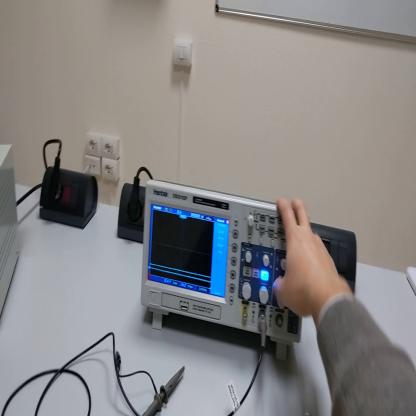hand: (273, 196, 341, 321)
oscilloscope: (140, 181, 302, 360)
oscilloscope probe tip: (145, 366, 184, 415)
power supply: (2, 146, 19, 327)
socket: (40, 168, 99, 232), (118, 179, 145, 245)
